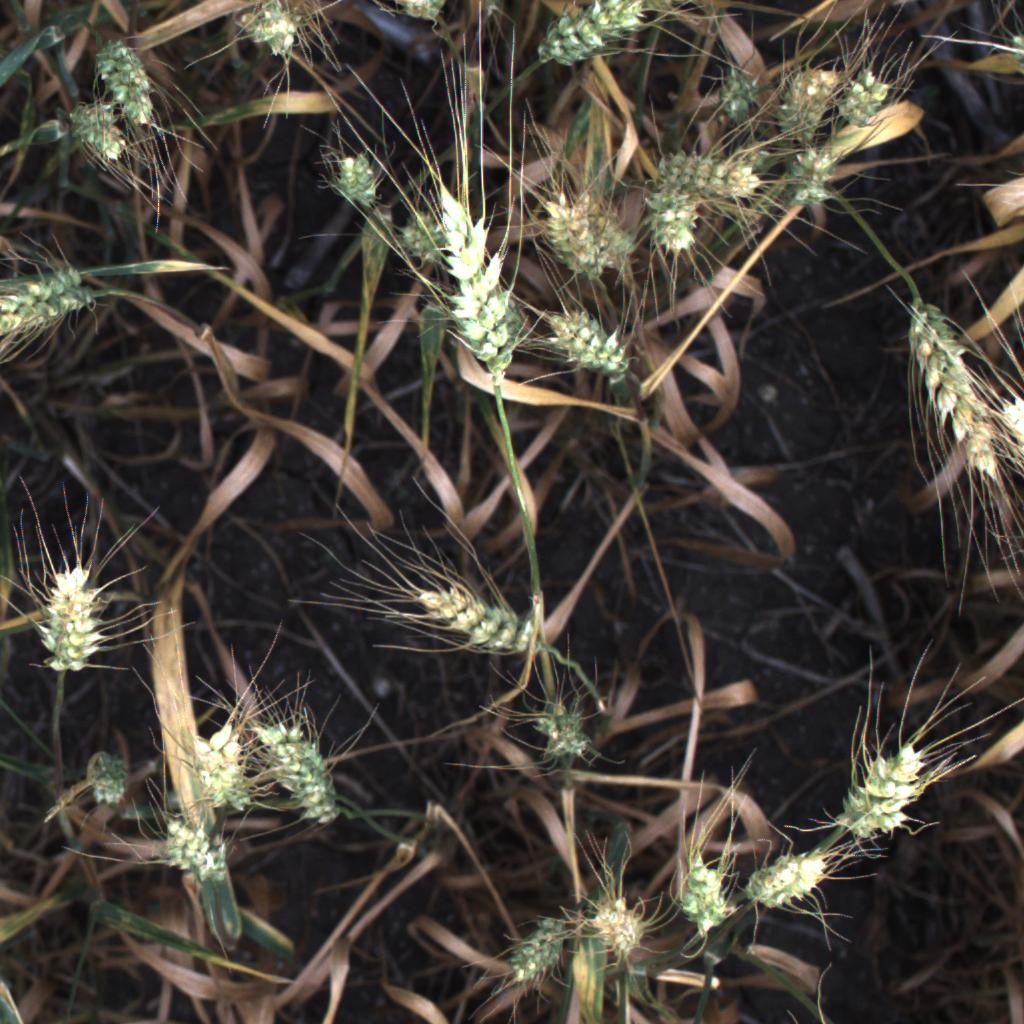0-0: (892, 269, 1005, 497), (427, 160, 530, 373), (245, 690, 355, 844), (14, 539, 117, 682), (397, 577, 556, 665), (0, 239, 113, 362), (829, 728, 943, 847), (512, 0, 671, 73), (532, 289, 640, 385), (649, 137, 773, 214), (187, 702, 269, 812), (666, 832, 743, 948), (739, 838, 844, 921), (569, 882, 662, 972), (488, 902, 581, 992), (522, 676, 609, 772), (94, 30, 167, 126), (148, 804, 236, 883), (540, 182, 603, 285), (55, 102, 138, 179), (224, 3, 326, 64), (65, 736, 140, 816), (774, 140, 850, 216), (319, 138, 392, 213), (781, 45, 841, 136), (573, 183, 633, 269), (638, 185, 705, 258), (839, 65, 902, 136), (700, 79, 765, 128), (357, 0, 470, 28), (994, 381, 1024, 481)
